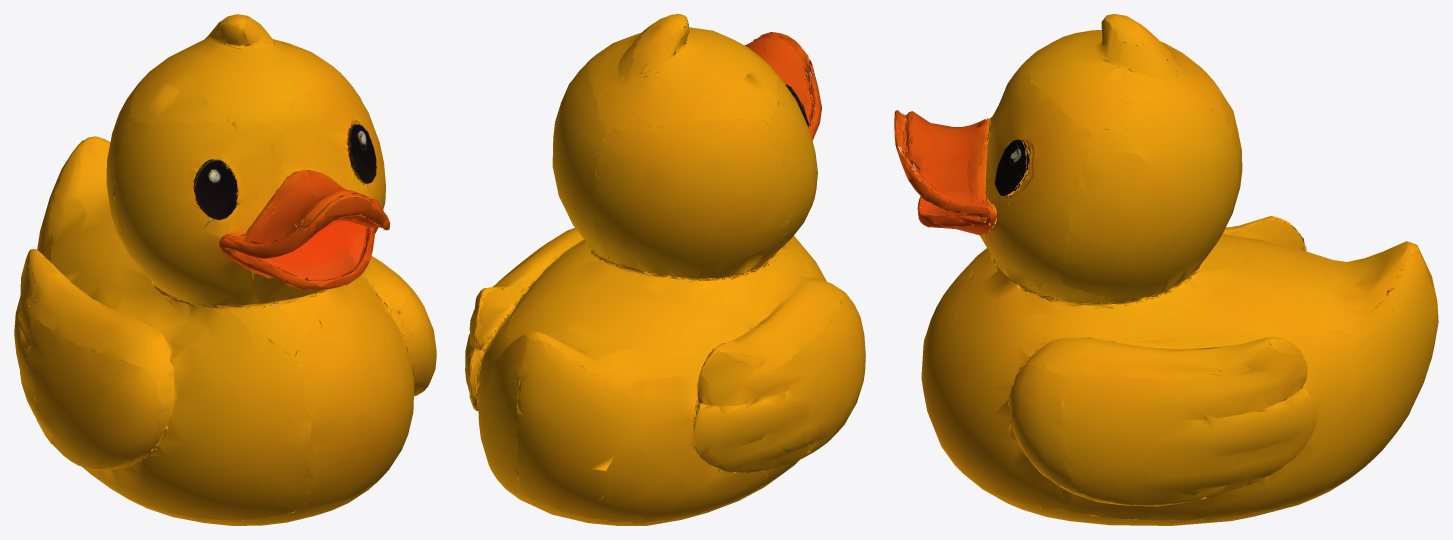
File: duck_rubber_01.glb
3 views of the same model, side by side, from view 1: azimuth 30°, elevation 25°; view 2: azimuth 150°, elevation 25°; view 3: azimuth 270°, elevation 25° (orthographic). The views are drawn at different scales.
Parts seen in each view (by area): view 1: duck_rubber_01; view 2: duck_rubber_01; view 3: duck_rubber_01.
Boxes of the visible parts, x1,y1,x2,y2 form: duck_rubber_01: [14, 14, 436, 525]; duck_rubber_01: [465, 14, 865, 525]; duck_rubber_01: [894, 14, 1438, 525].
Size of the model in its own units: 2.23 by 2.91 by 3.
Materials: 1 (1 with a texture image).
